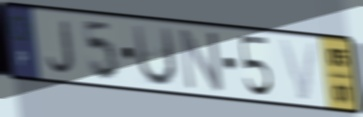5: (80, 18, 121, 82), (237, 33, 273, 99)
J: (45, 17, 77, 76)
N: (177, 25, 226, 94)
U: (130, 22, 179, 89)
V: (277, 37, 320, 103)
